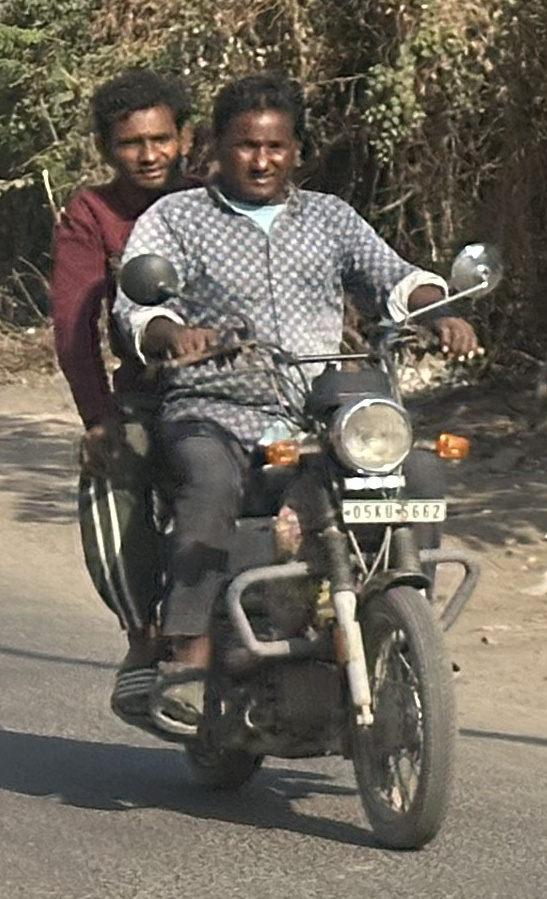BikeWithRider: (40, 60, 514, 860)
NoHelmet: (200, 68, 315, 208), (83, 67, 195, 198)
